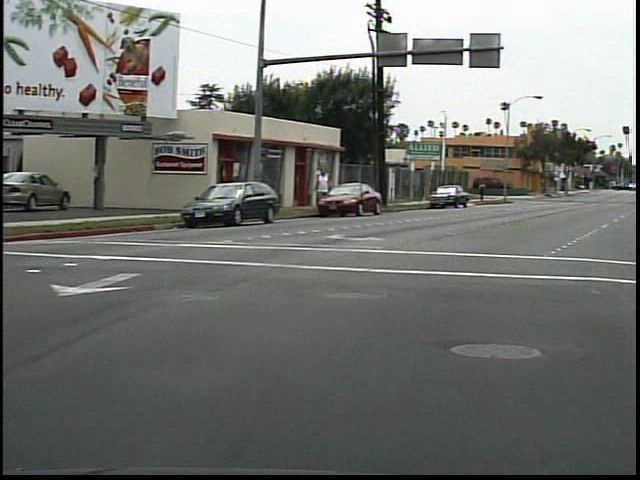person: (318, 162, 341, 213), (481, 178, 493, 206)
